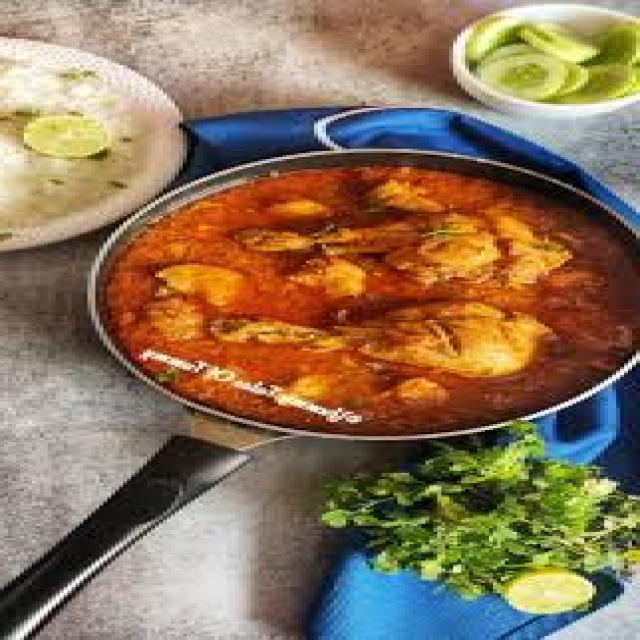Chicken Curry: (111, 165, 640, 434)
